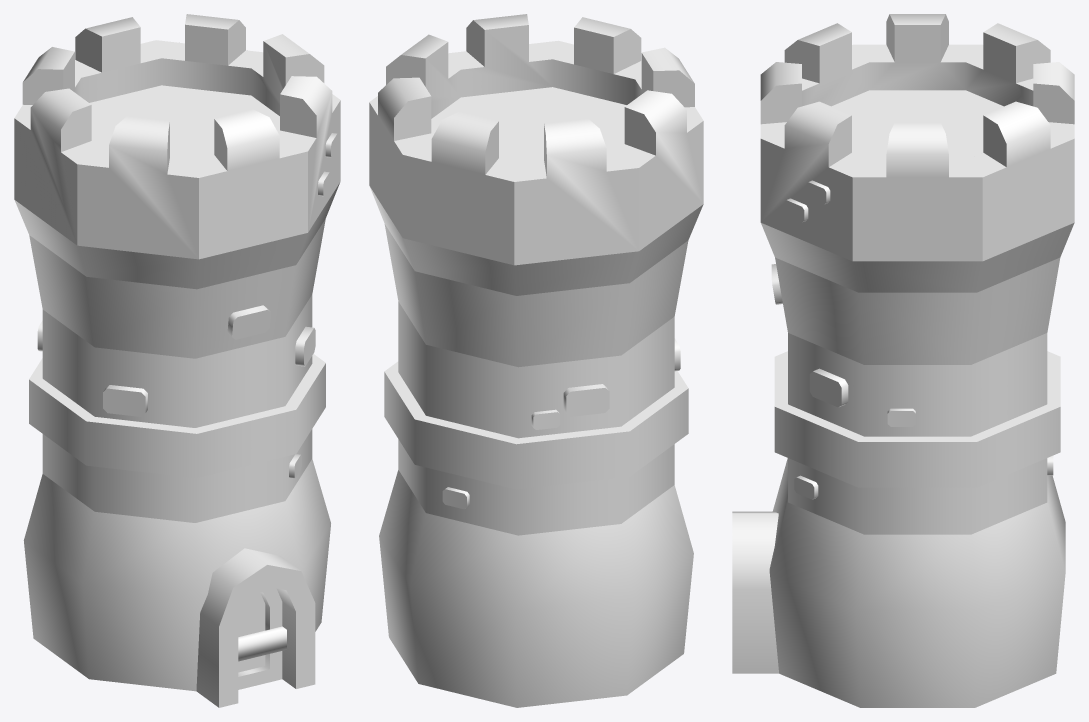
Rendered from tower-complete-small.glb.
The picture shows the model from 3 angles, left to right: view 1: azimuth 30°, elevation 25°; view 2: azimuth 150°, elevation 25°; view 3: azimuth 270°, elevation 25°; orthographic projection. The views are drawn at different scales.
Parts seen in each view (by area): view 1: tower-complete-small; view 2: tower-complete-small; view 3: tower-complete-small.
Boxes of the visible parts, x1,y1,x2,y2 form: tower-complete-small: (14, 14, 340, 707); tower-complete-small: (369, 14, 703, 707); tower-complete-small: (732, 14, 1074, 707).
Size of the model in its own units: 3.35 by 6.78 by 3.66.
1 material, 1 textured.
